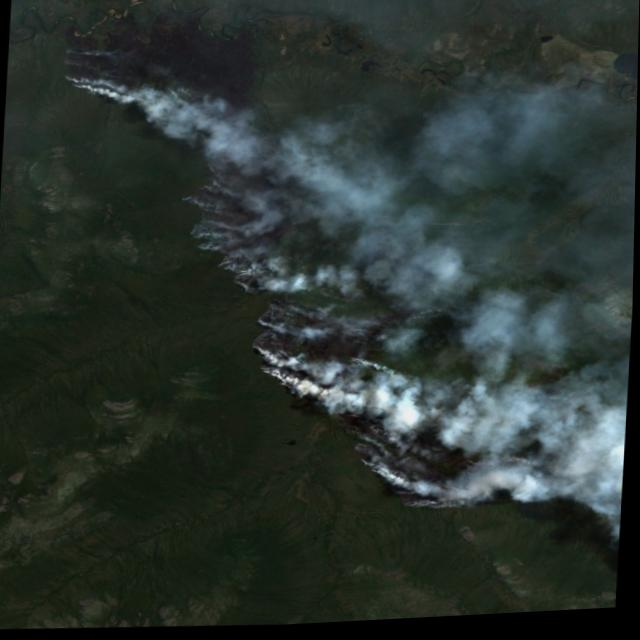fire: (19, 0, 640, 556)
